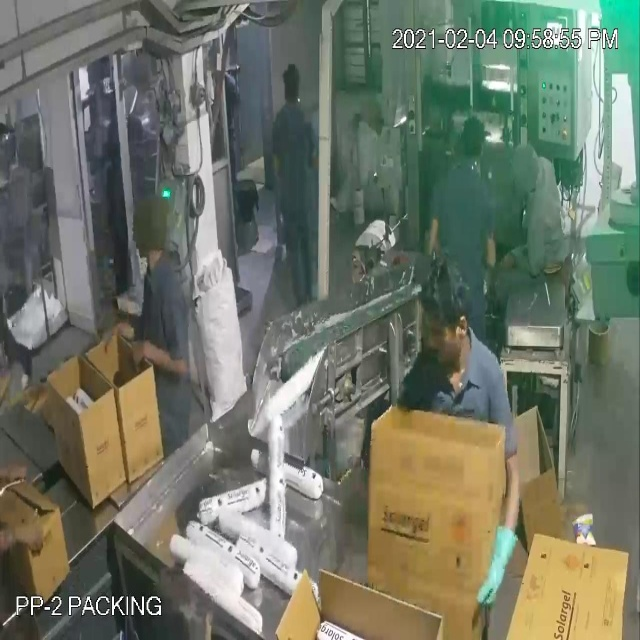Guantes: (476, 444, 526, 613)
Sin_guantes: (130, 326, 191, 392), (96, 311, 146, 360), (0, 506, 42, 564), (0, 446, 33, 496)
